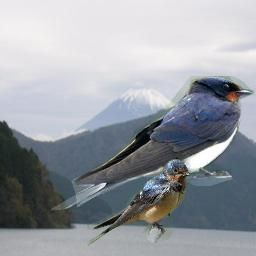Swallow: (51, 76, 254, 217), (87, 159, 191, 247)
